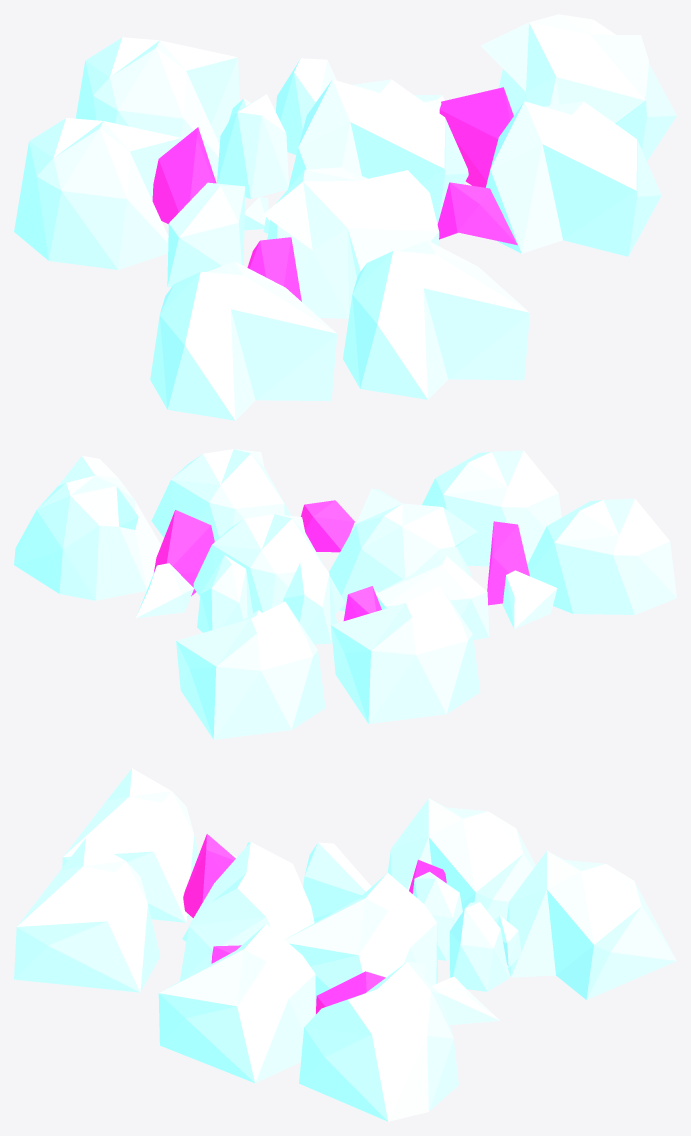
The model's file is ice_resource_01.glb.
The picture shows the model from 3 angles, top to bottom: view 1: azimuth 30°, elevation 25°; view 2: azimuth 150°, elevation 25°; view 3: azimuth 270°, elevation 25°; orthographic projection. The views are drawn at different scales.
Visible parts, largest first — view 1: Ice, Purple_Diamond; view 2: Ice, Purple_Diamond; view 3: Ice, Purple_Diamond.
Part boxes in pixels (x1,y1,x2,y2): Ice: [14, 14, 676, 420]; Purple_Diamond: [152, 87, 517, 301]; Ice: [14, 449, 676, 739]; Purple_Diamond: [154, 500, 529, 620]; Ice: [14, 768, 676, 1121]; Purple_Diamond: [183, 834, 446, 1013].
Bounding box in the file's own units: 32.43 × 6.61 × 32.35.
